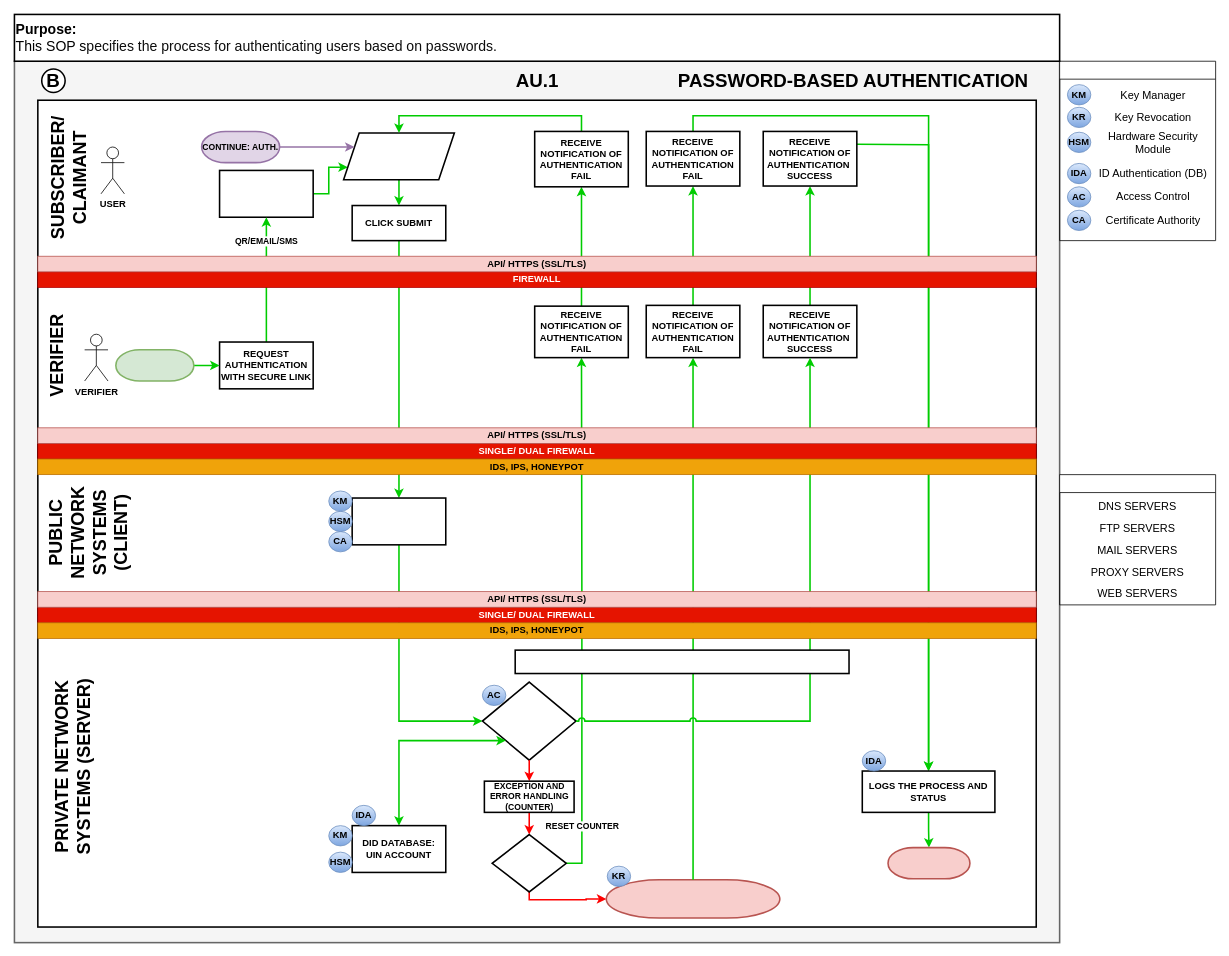
This 1229x956 diagram has some shape labels left out. The shapes that lost their labels are listed below. From the top down, each one's box as (x1, y1, x2, y2) in pixels, then its label:
(342, 132, 455, 180): ENTER EMAIL/UIN AND PASSWORD
(1059, 60, 1216, 241): LEGEND
(218, 169, 314, 218): CLICKS SECURE LINk TO DID AUTHENTICATOR
(115, 349, 194, 381): START (ONLINE)
(351, 497, 446, 545): MASK & ENCRYPT EMAIL/UIN AND PASSWORD FOR AUTHENTICATION
(1059, 474, 1216, 605): PUBLIC NETWORK
(514, 649, 849, 674): NOTIFICATION GENERATOR
(481, 681, 576, 760): IF UIN AND PASSWORD MATCH
(491, 833, 567, 892): IF RETRY COUNT < = 3
(887, 846, 970, 879): END
(605, 879, 780, 918): TERMINATE PROCESS: AFTER 3 RETRY
